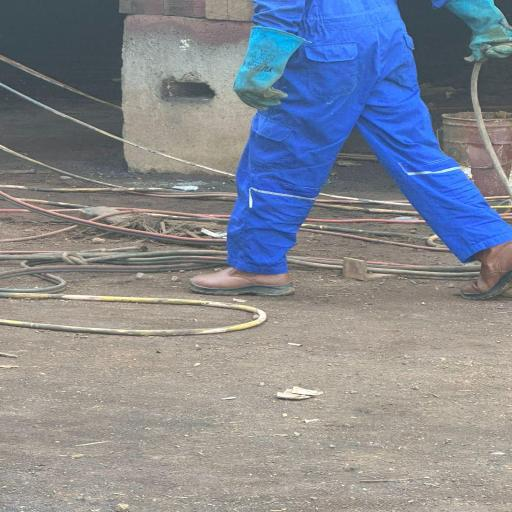safety_shoe: (182, 257, 296, 296), (457, 240, 512, 299)
